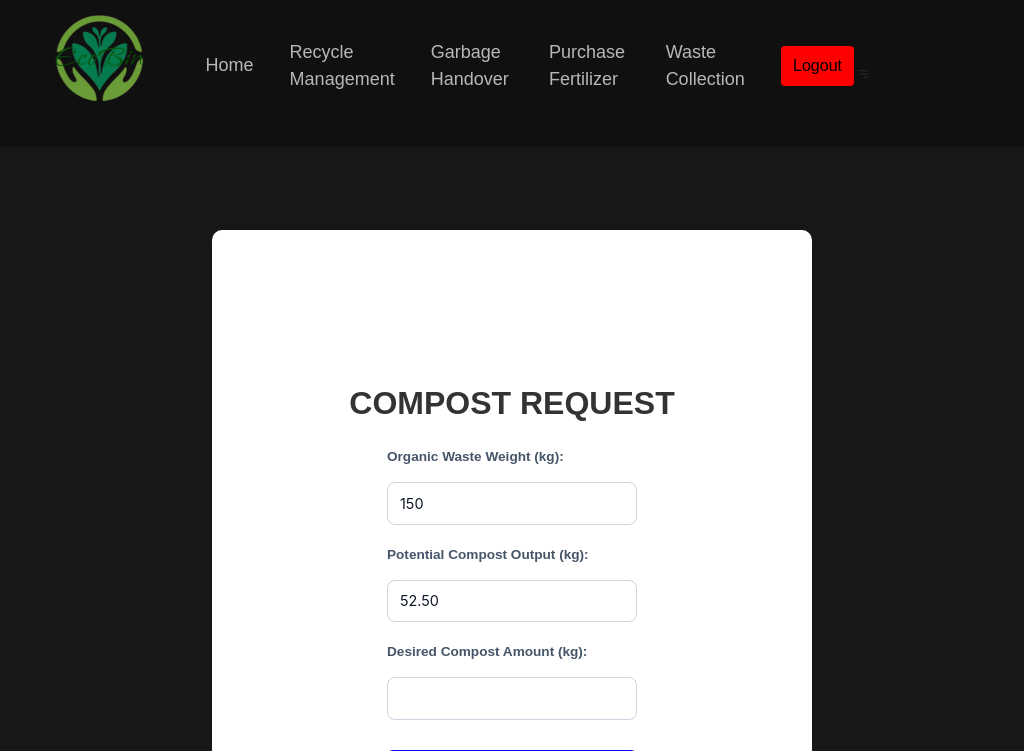
Test: AddCompostRequest Component › should calculate the cost based on the compost amount
Expected: the number field showing "150" is shown, [387,482,637,525]
Expected: the number field showing "52.50" is shown, [387,580,637,622]
In the number field labelled "Desired Compost Amount (kg):": (512, 699) [387,677,637,720], type "30"
(page scrolled)
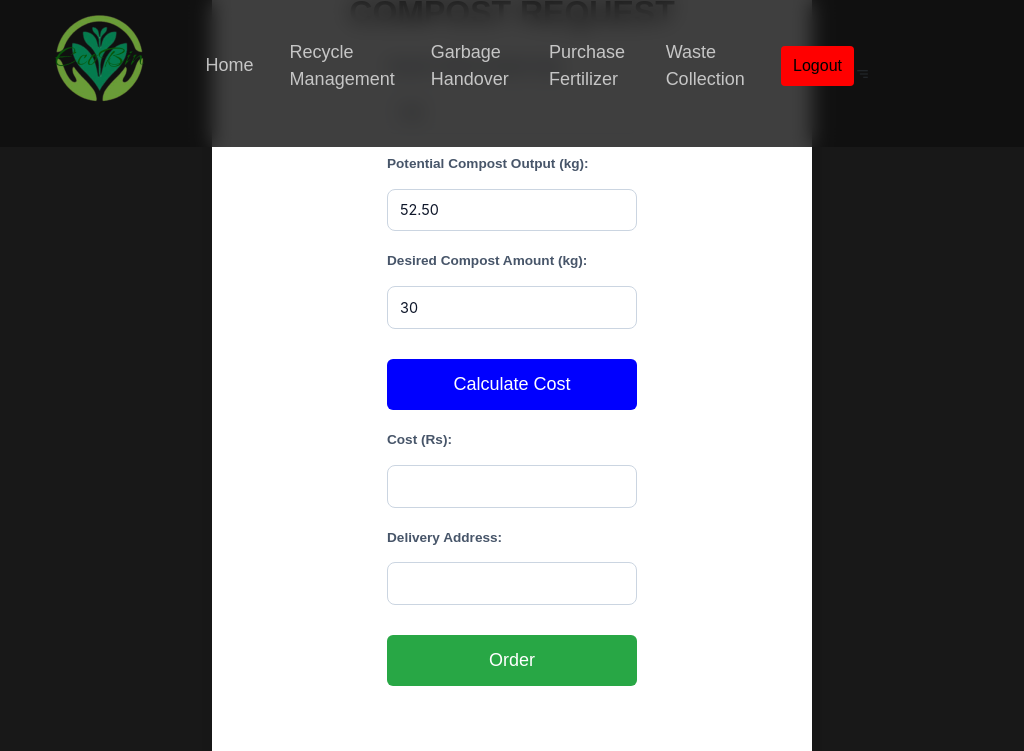
Click the button "Calculate Cost": (512, 384) [387,359,637,410]
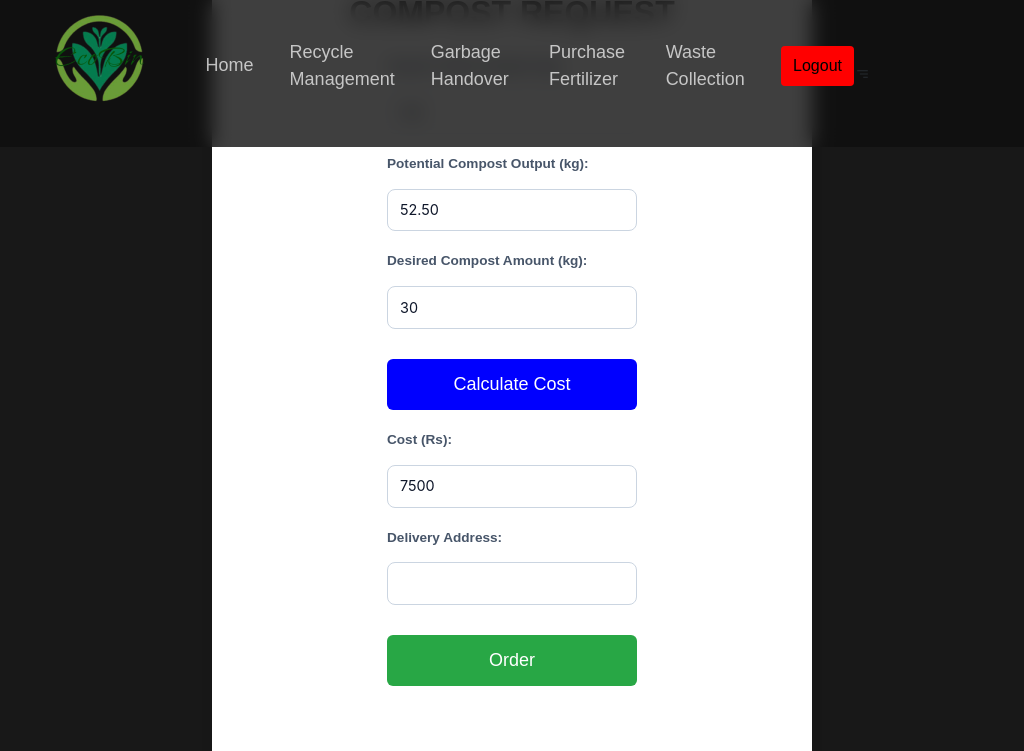
Expected: the number field labelled "Cost (Rs):" holds "7500", [387,465,637,508]
